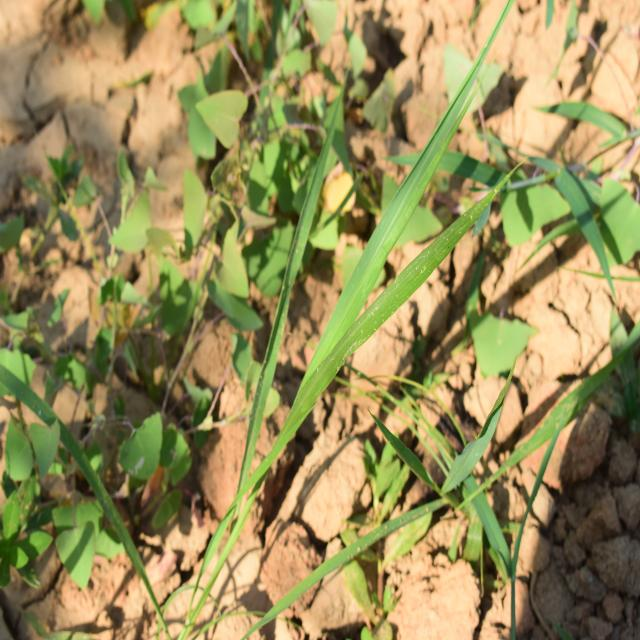green_foxtail: (253, 51, 487, 430)
